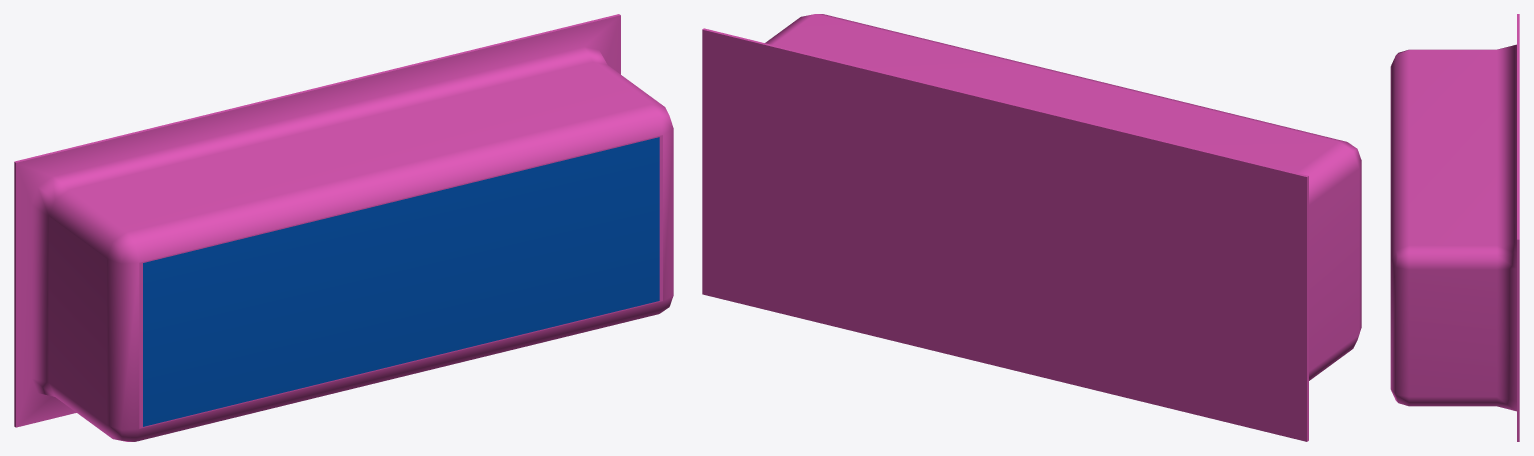
The model's file is Ham.fbx.
3 renders of one model, left to right at view 1: azimuth 30°, elevation 25°; view 2: azimuth 150°, elevation 25°; view 3: azimuth 270°, elevation 25°, orthographic. The views are drawn at different scales.
Visible parts, largest first — view 1: Ham; view 2: Ham; view 3: Ham.
Boxes of the visible parts, x1,y1,x2,y2 form: Ham: [14, 14, 673, 441]; Ham: [702, 14, 1361, 441]; Ham: [1390, 14, 1519, 441].
Size of the model in its own units: 47.8 by 11.57 by 19.99.
